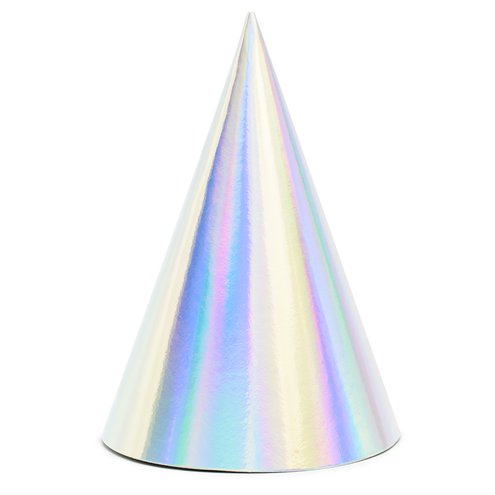cone: (101, 12, 402, 473)
